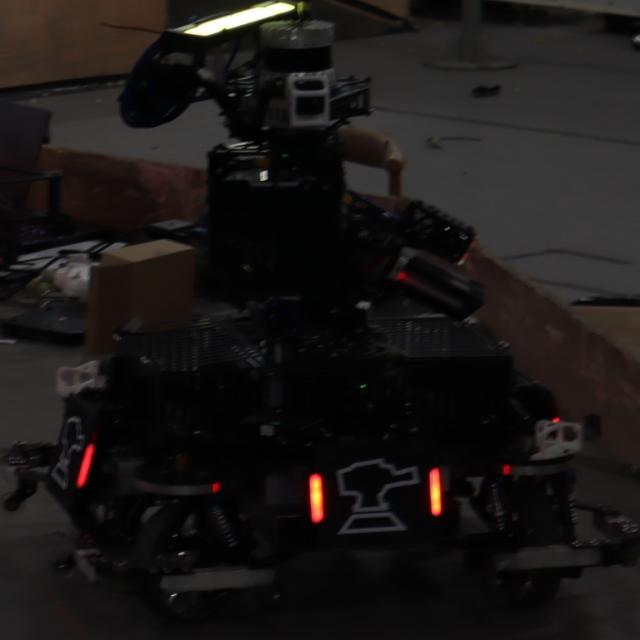Rs: (306, 445, 444, 545), (50, 409, 96, 496)
